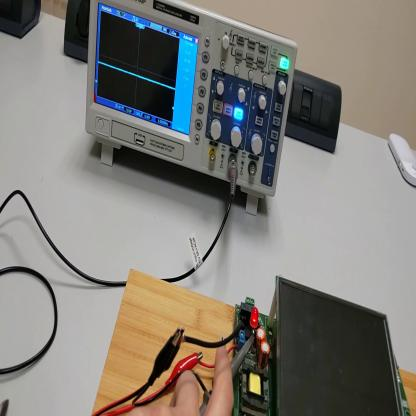hand: (172, 345, 235, 415)
low voltage board: (233, 277, 411, 413)
oscilloscope: (87, 1, 298, 219)
oscilloscope probe tip: (198, 334, 254, 416)
pliers: (3, 398, 12, 414)
socket: (3, 1, 42, 42), (66, 3, 89, 61)
working area: (93, 270, 415, 414)
